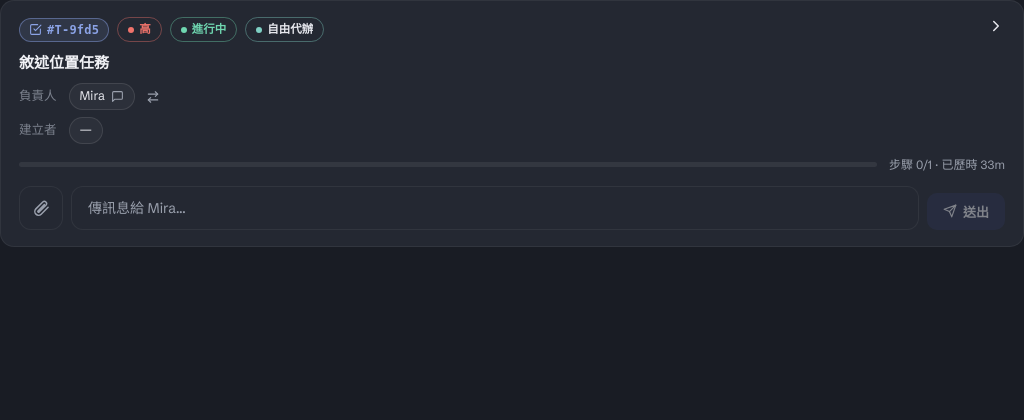
Test: spec ③ 詳細敘述排在訊息輸入框之後 › keeps its expanded-only gate: a collapsed card renders no description
expect the element with test id "task-card" does not show "這是任務的詳細敘述": met
# Expand → it appears (below the composer).
Click the button with test id "task-card". click: (512, 232)
box: [0,0,1023,247]
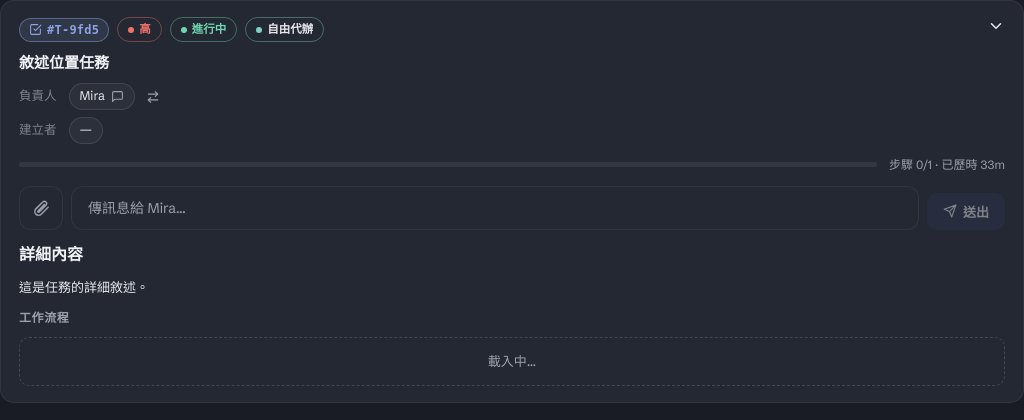
expect the element with class "task-card__desc" is shown: met, box [19,244,149,295]
# Collapse again → it goes away, even though the detail is now hydrated.
Click the button with test id "task-card". click: (512, 202)
box: [0,0,1023,403]
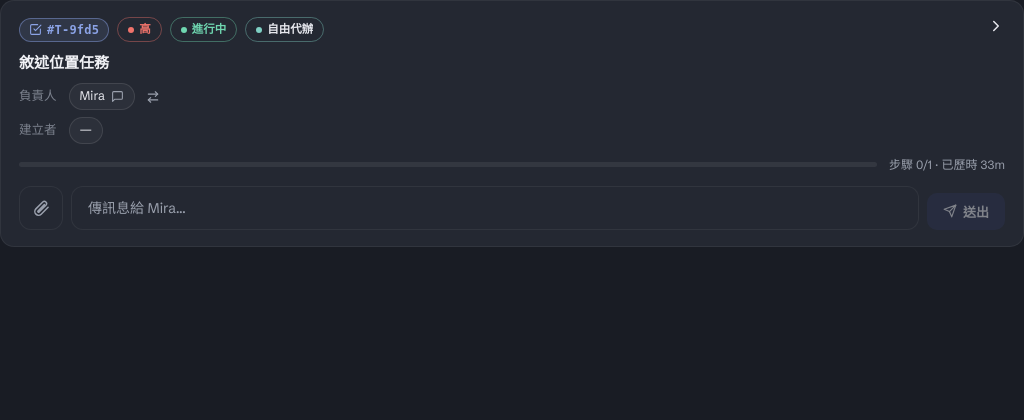
expect the button with test id "task-card" is collapsed: met, box [0,0,1023,247]
expect the element with class "task-card__desc" is gone: met
